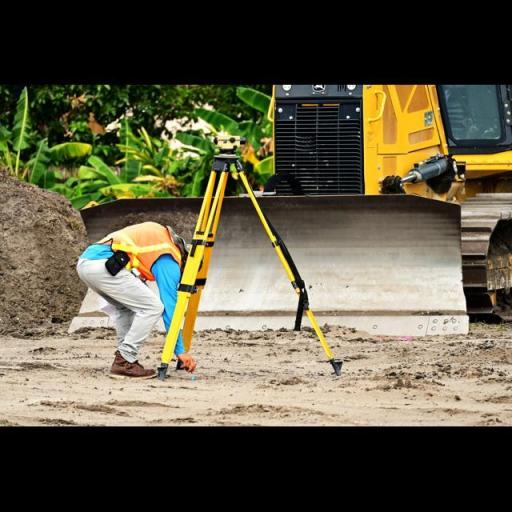Person: (70, 204, 214, 382)
none: (174, 350, 200, 372)
vest: (88, 220, 187, 282)
